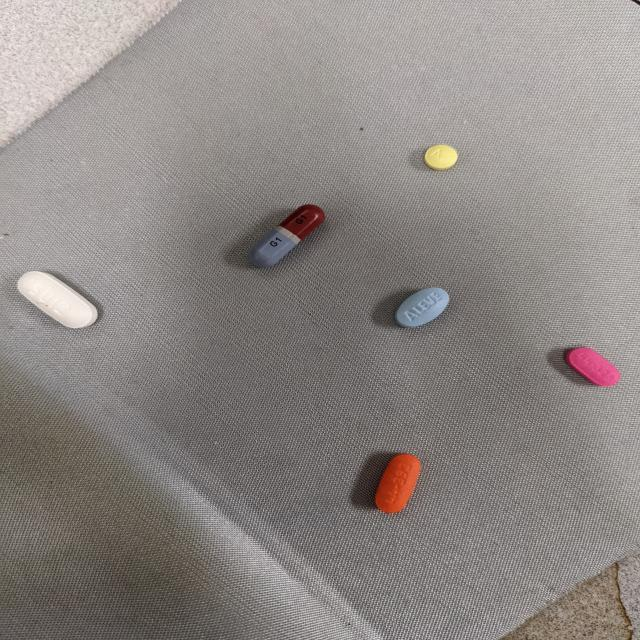non-organic waste: (246, 203, 326, 269), (16, 270, 100, 330), (373, 452, 421, 514), (393, 286, 451, 329), (564, 347, 622, 387), (422, 144, 459, 171)
